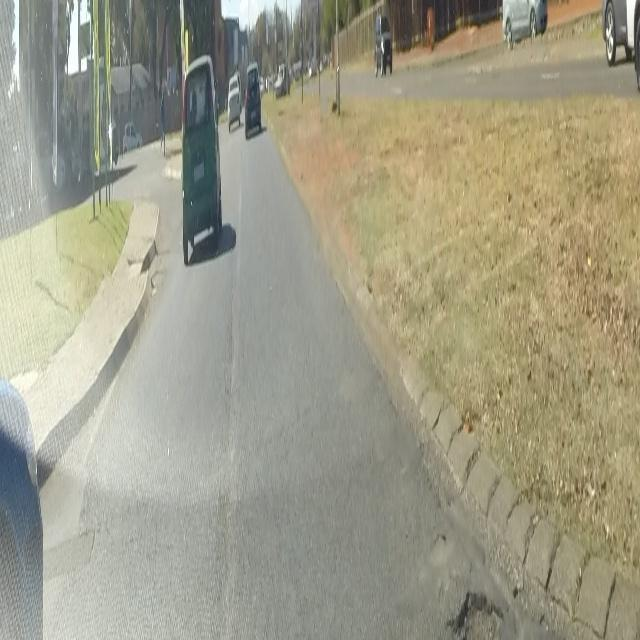pothole: (432, 584, 507, 640)
